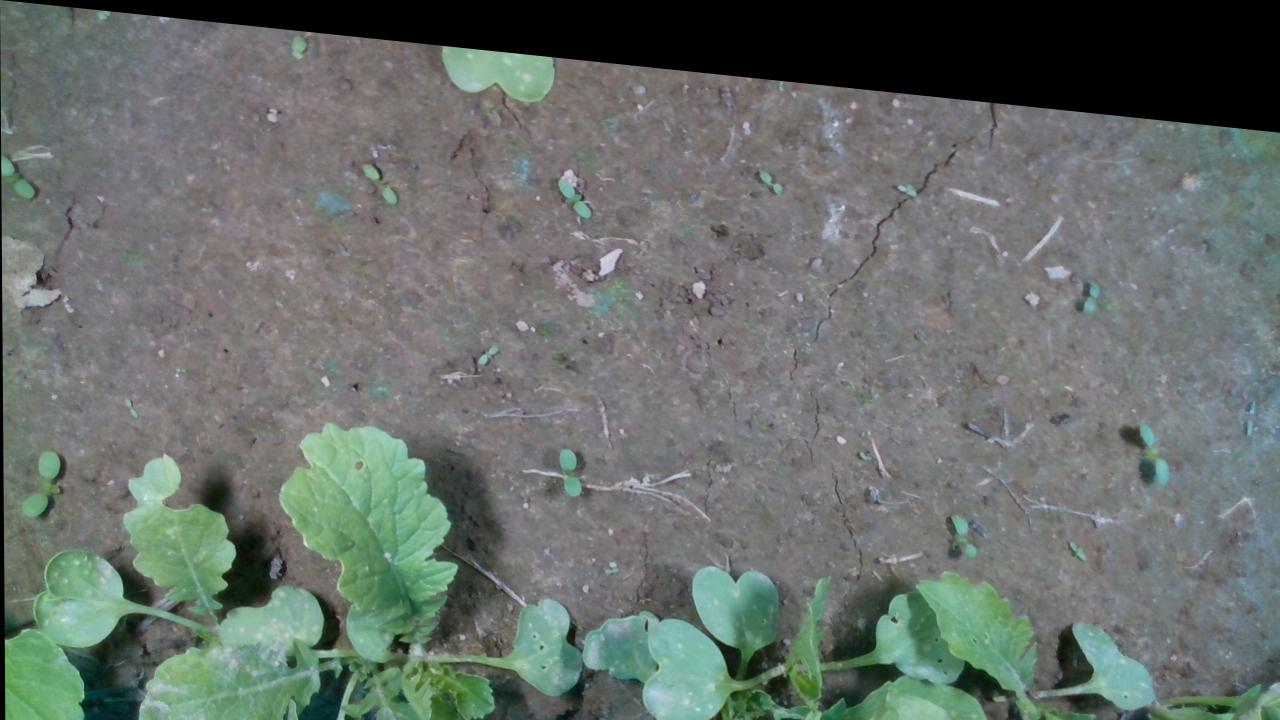weed: (18, 443, 61, 521), (1136, 395, 1168, 463), (358, 152, 399, 198), (554, 163, 592, 207), (945, 489, 977, 538), (554, 433, 582, 487), (757, 150, 783, 179), (1081, 254, 1099, 293), (476, 332, 499, 357), (1066, 516, 1087, 539), (894, 160, 918, 179), (121, 392, 137, 417)
